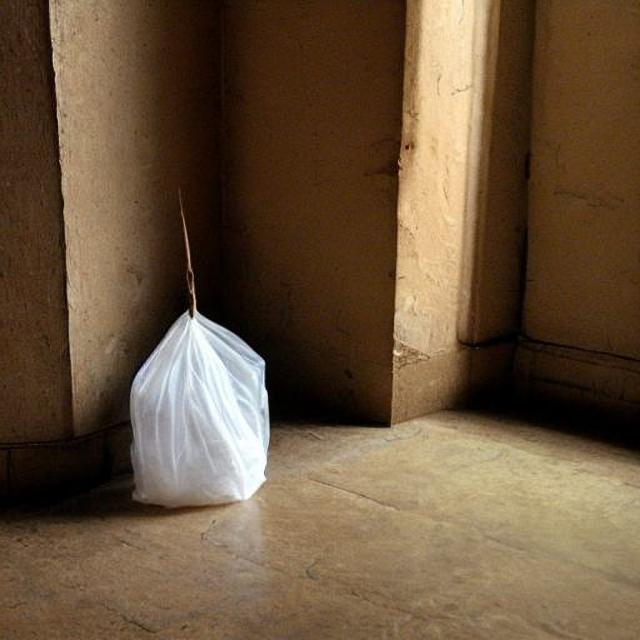plastic bag: (132, 292, 271, 498)
